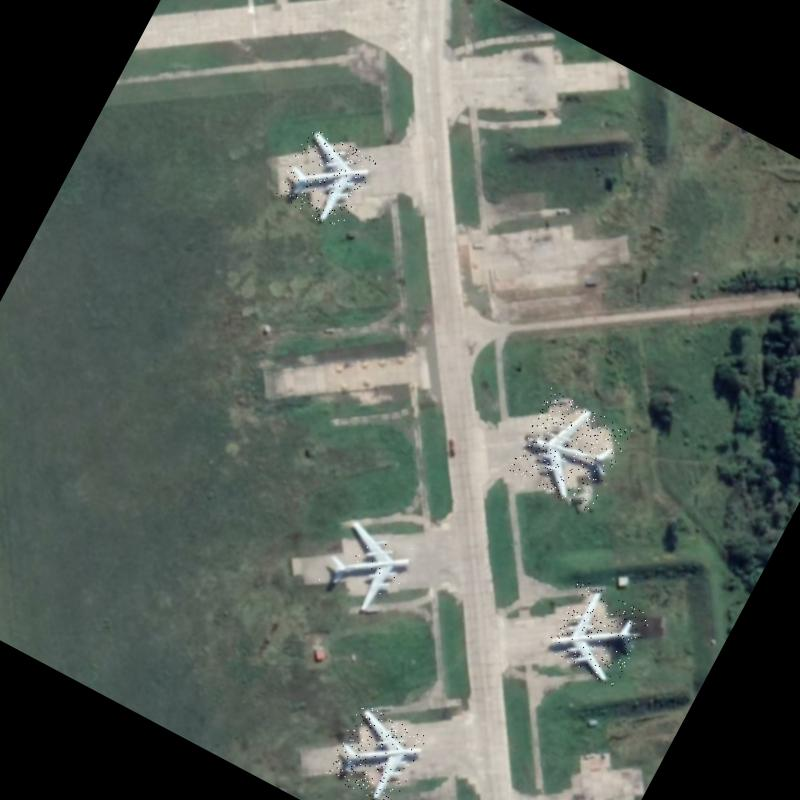A17: (507, 387, 632, 514), (542, 578, 652, 688), (311, 514, 417, 622), (273, 125, 377, 232), (323, 702, 428, 800)
